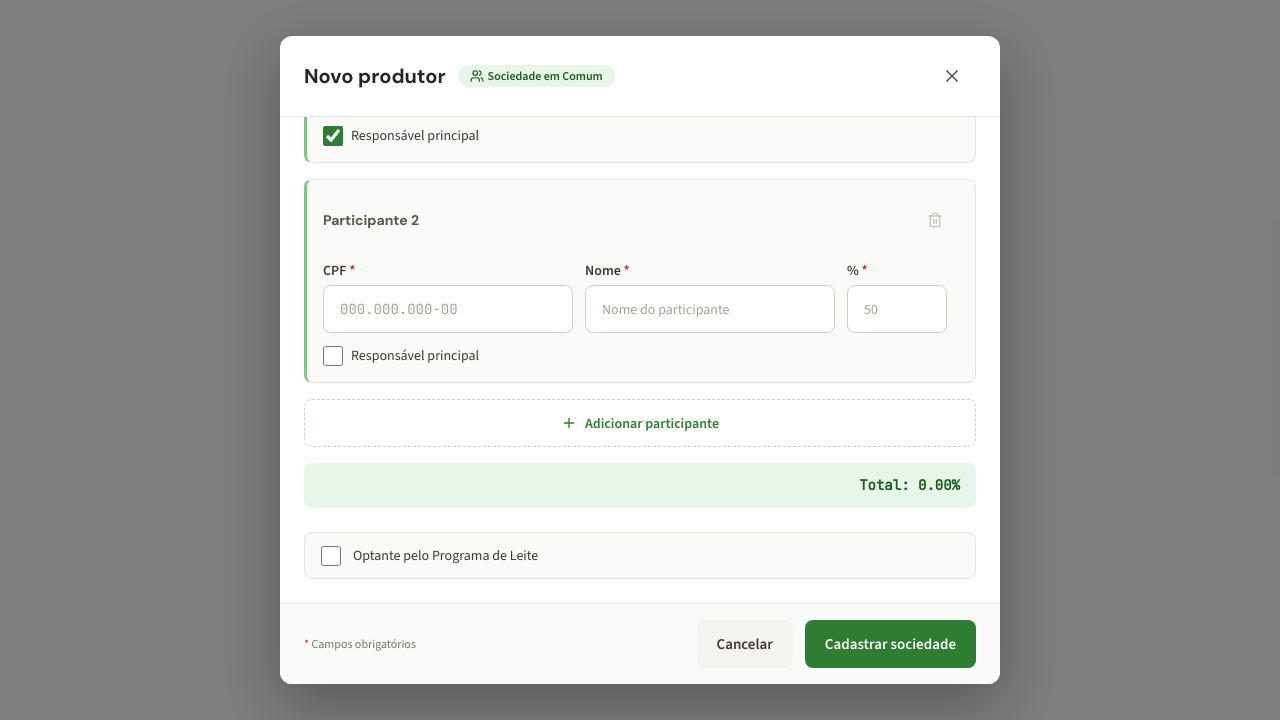
Test: ProducerSCFormModal › should remove a participant
The width and height of the screenshot is (1280, 720).
(page scrolled)
What coordinates should you click on to do the following:
click the button "Adicionar participante"
I would click on:
 (640, 423)
Its box is [304,399,976,447].
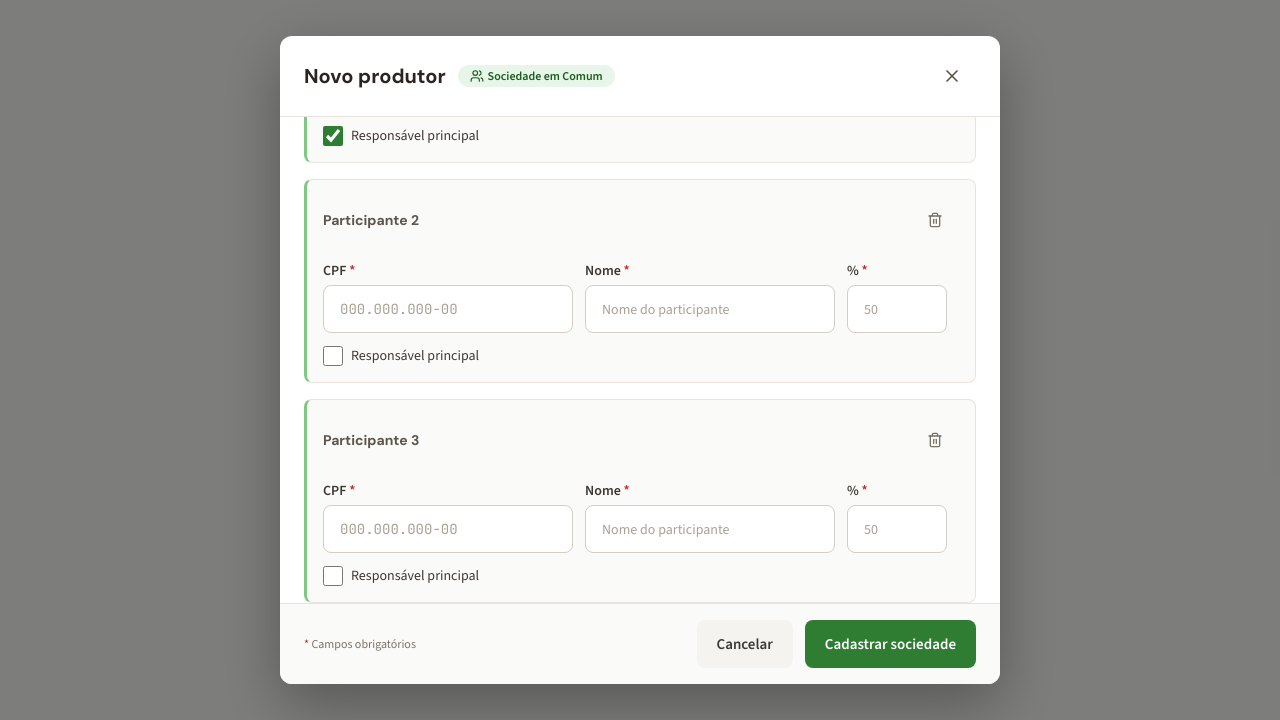
Now the text "Participante 3" is shown, box [323,430,419,450]
What coordinates should you click on to do the following:
click the button named "Remover participante"
I would click on:
 (935, 440)
Its box is [911,416,959,464].
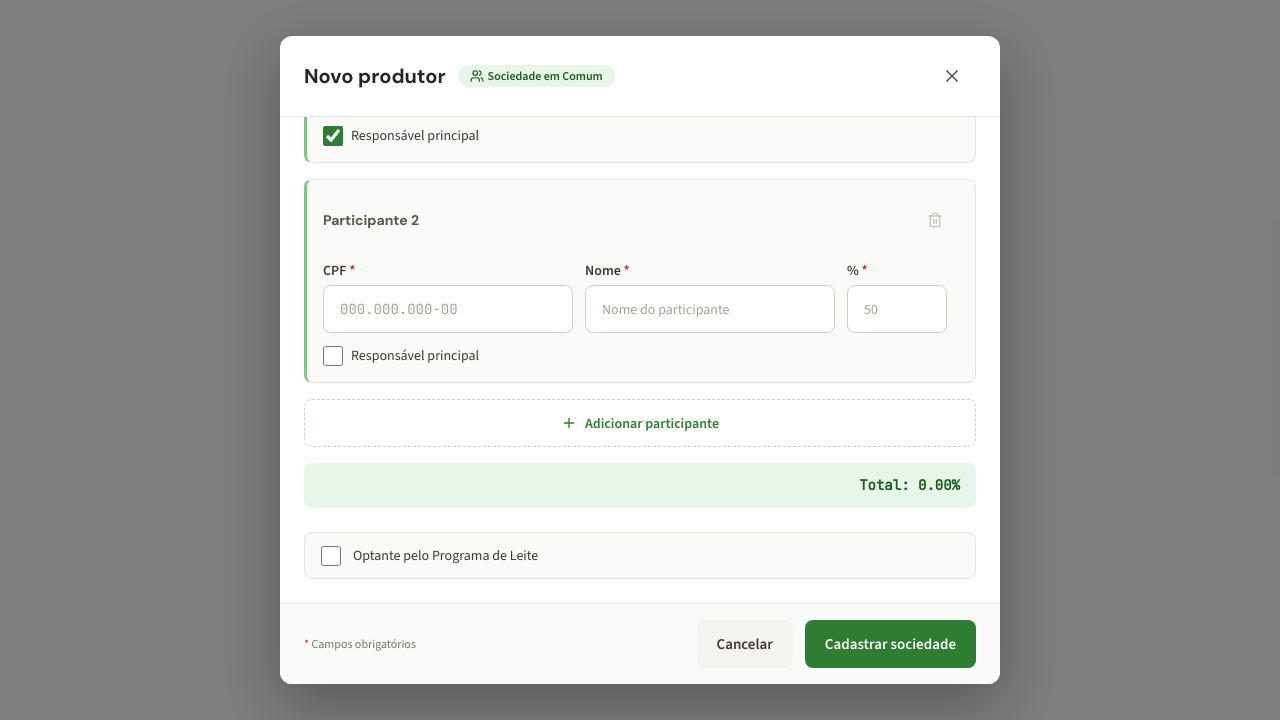
Now the text "Participante 3" is gone
